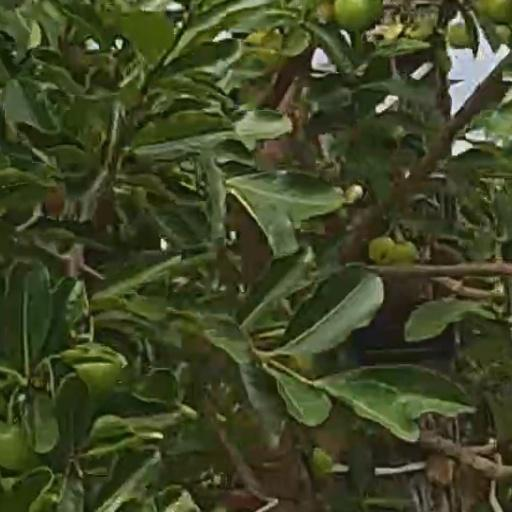acerola_verde: (1, 429, 40, 472), (334, 1, 382, 29), (369, 238, 395, 264), (398, 243, 420, 264)
